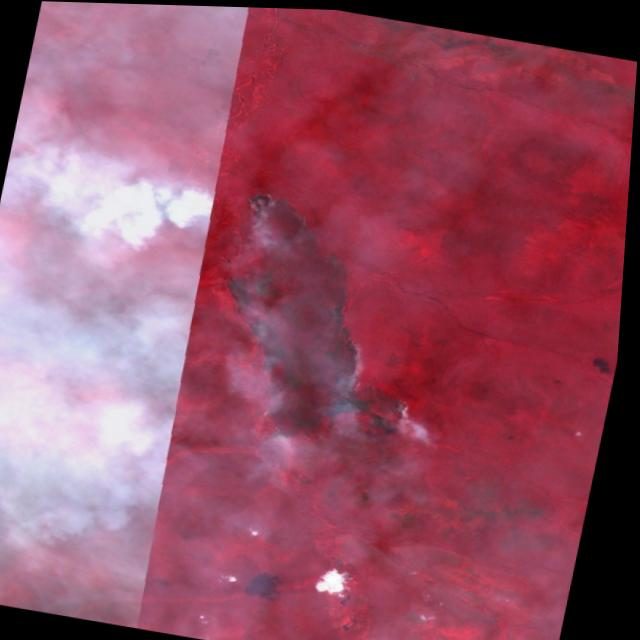fire: (193, 184, 458, 464)
